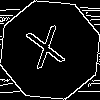X: (25, 25, 70, 79)
